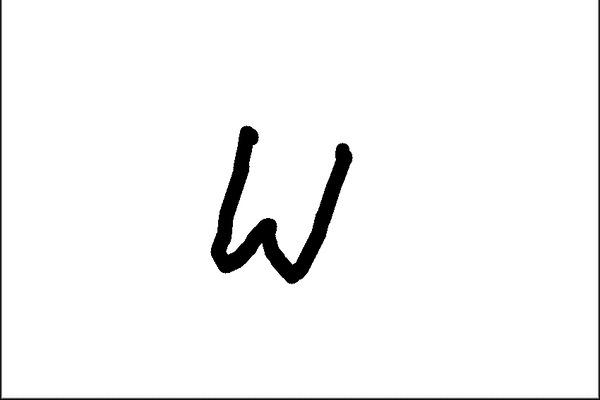w: (198, 116, 360, 296)
